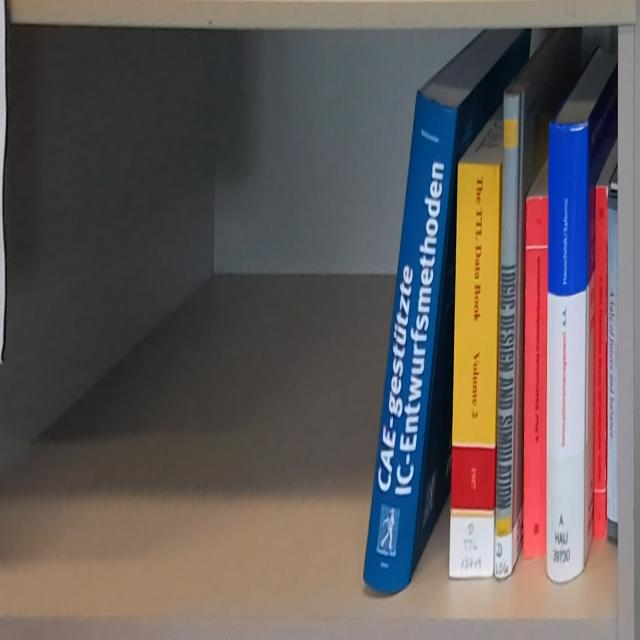Book Spine: (362, 90, 458, 594), (450, 161, 502, 578), (546, 122, 588, 584), (495, 92, 521, 581), (523, 196, 548, 559), (593, 185, 609, 539), (608, 183, 618, 540)
